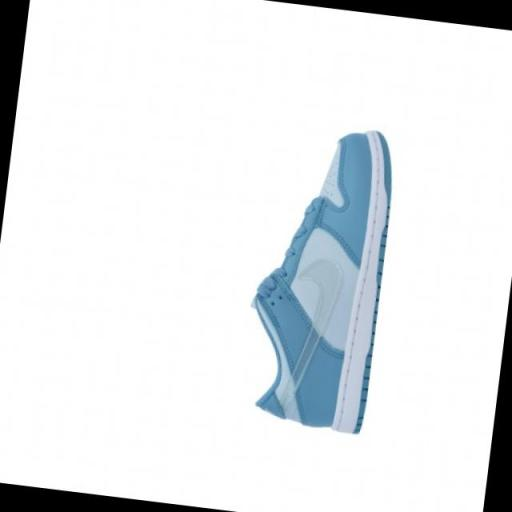Nike: (276, 249, 350, 414)
